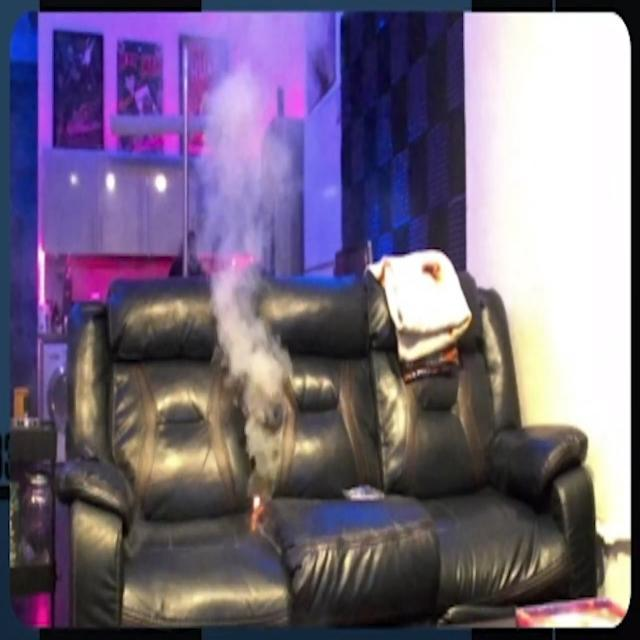Fire: (252, 492, 264, 530)
Smoke: (195, 70, 298, 477)
